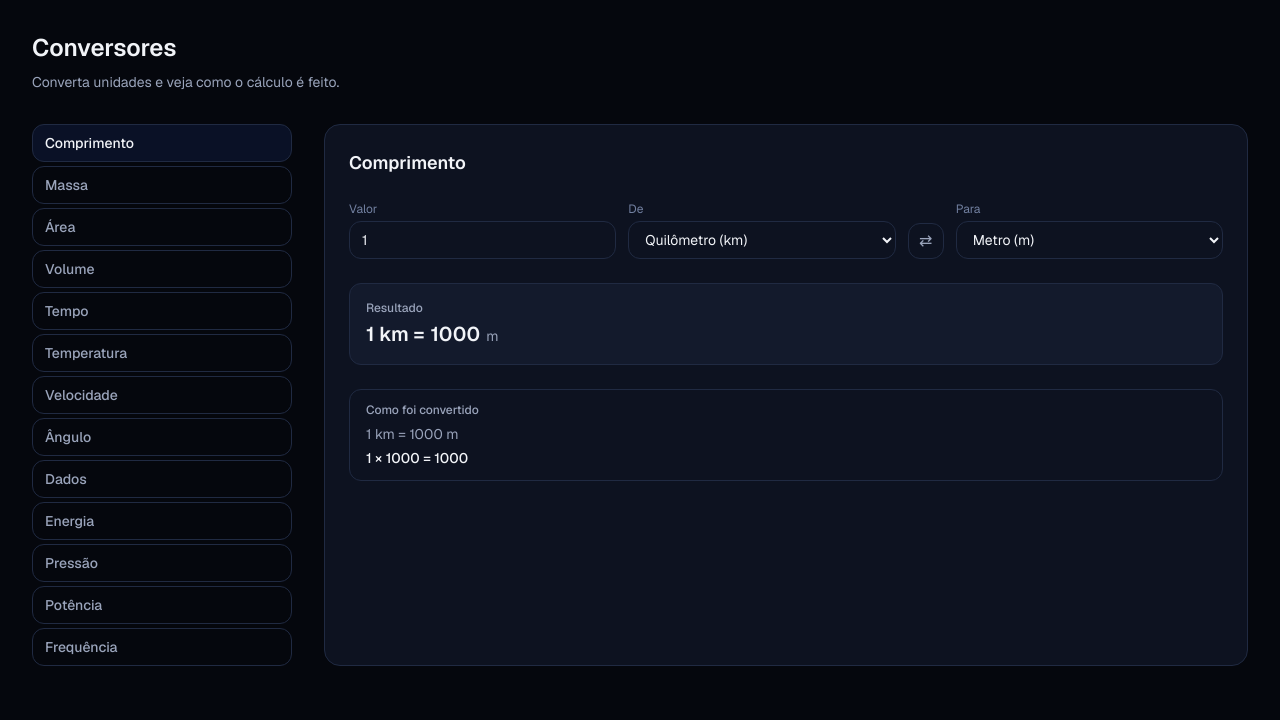
ConvertersWorkspace › troca de categoria atualiza o conversor sem navegar (mesma página, novo estado)
This screenshot has width=1280, height=720.
Click the tab "Temperatura": (86, 353) [32, 334, 292, 372]
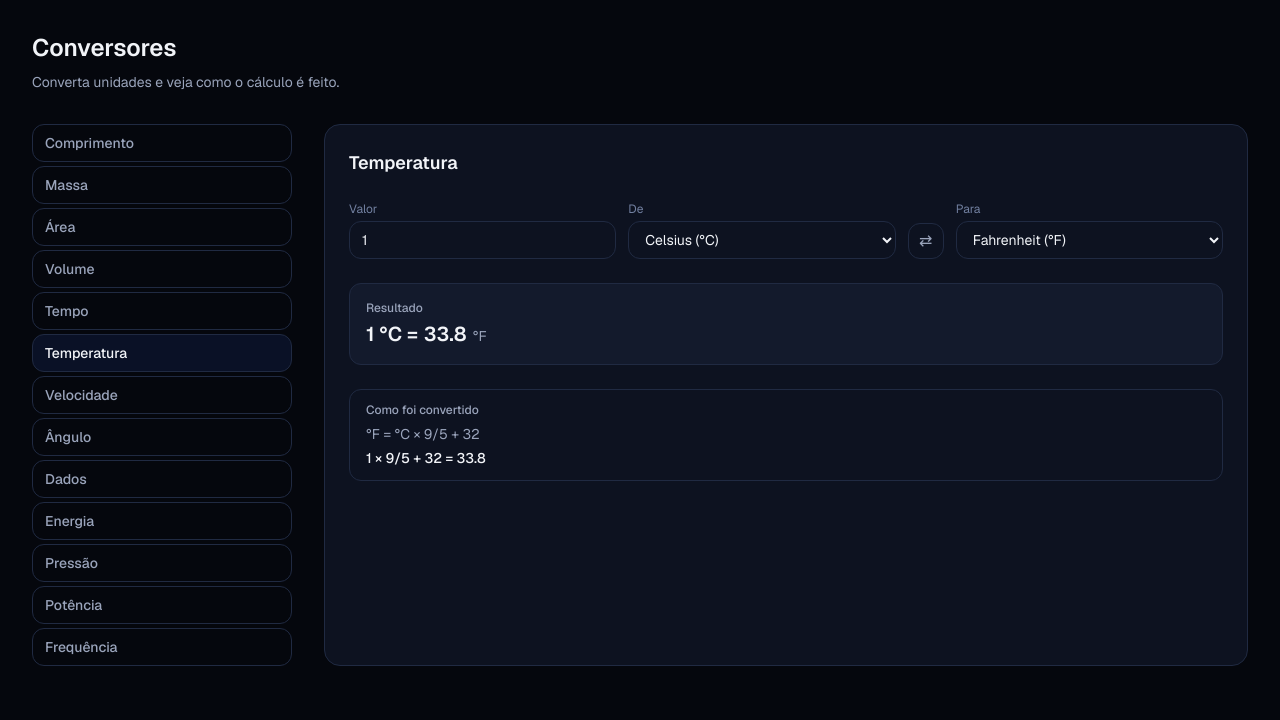
Now the heading "Temperatura" is shown, box [349, 151, 458, 174]
Now the dropdown labelled "De" shows "Celsius (°C)", box [628, 221, 896, 259]
Now the dropdown labelled "Para" shows "Fahrenheit (°F)", box [956, 221, 1223, 259]
